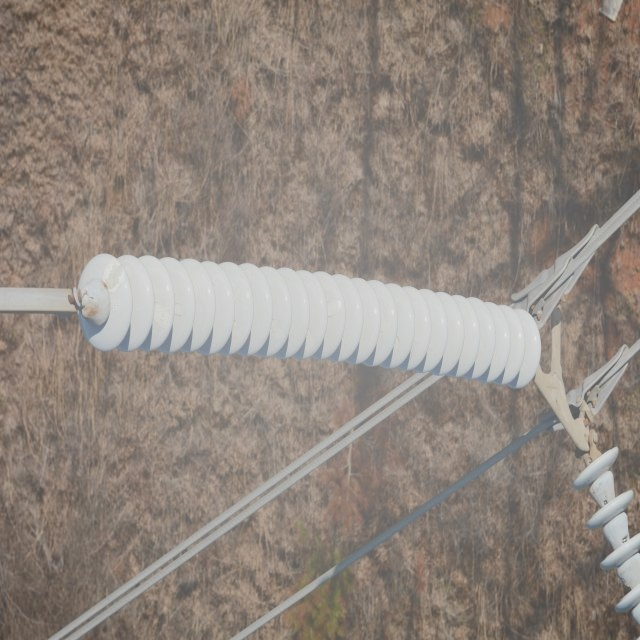insulator: (75, 252, 541, 392), (572, 442, 640, 612)
